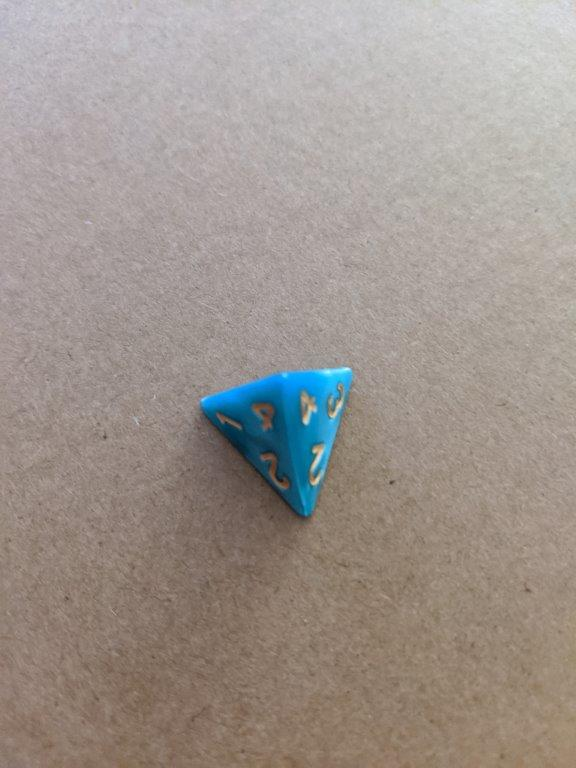d4-4: (199, 364, 350, 522)
